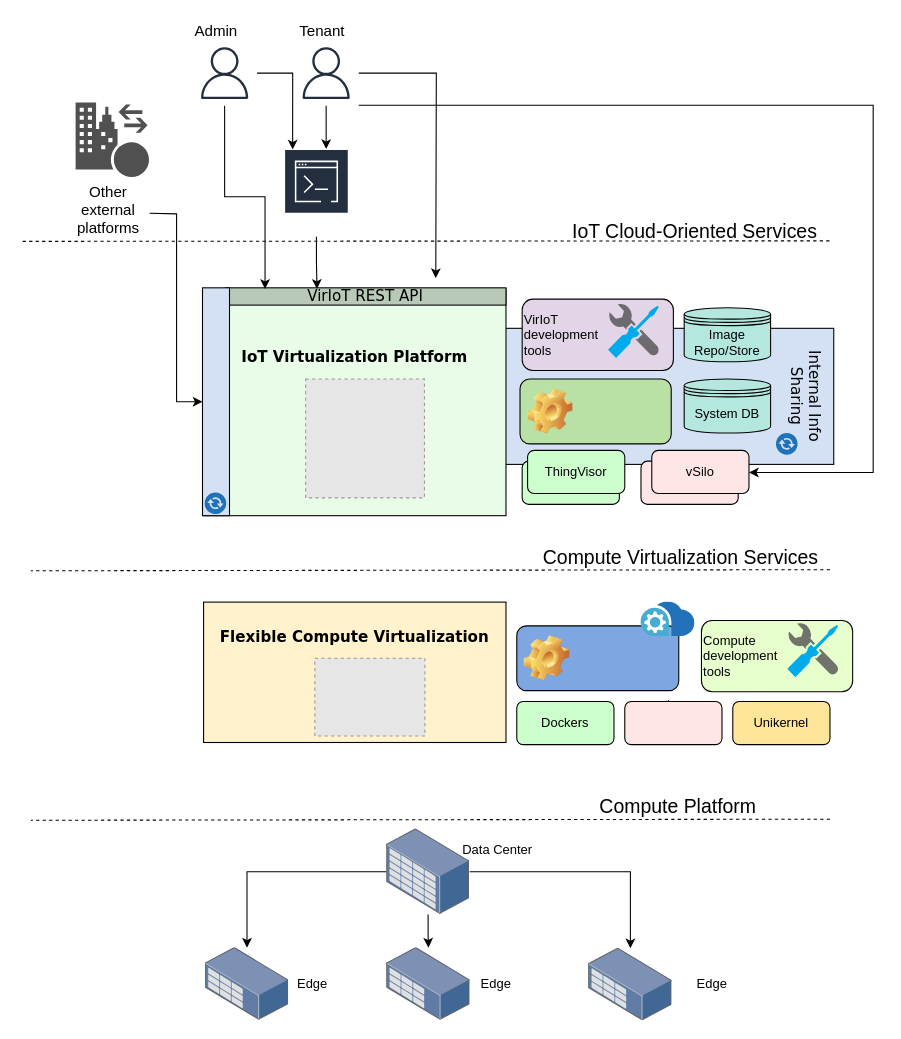
Image size: 901x1039. Some labels were removed from this diagram. Grey dashed boxes stand in for pictures. The centre of each missing label's shape, as x and y in pixels:
"Compute Virtualization Orchestration" belongs at (597,658).
"External Info Sharing" belongs at (215,401).
"Linux Kernel Library" belongs at (673,722).
"Master Controller" belongs at (595,411).
"VirIoT CLI" belongs at (316,192).
